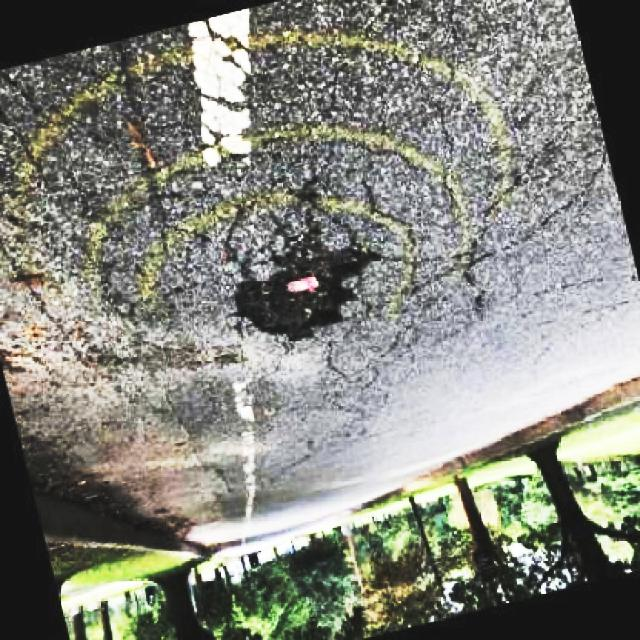pothole: (237, 229, 378, 340)
